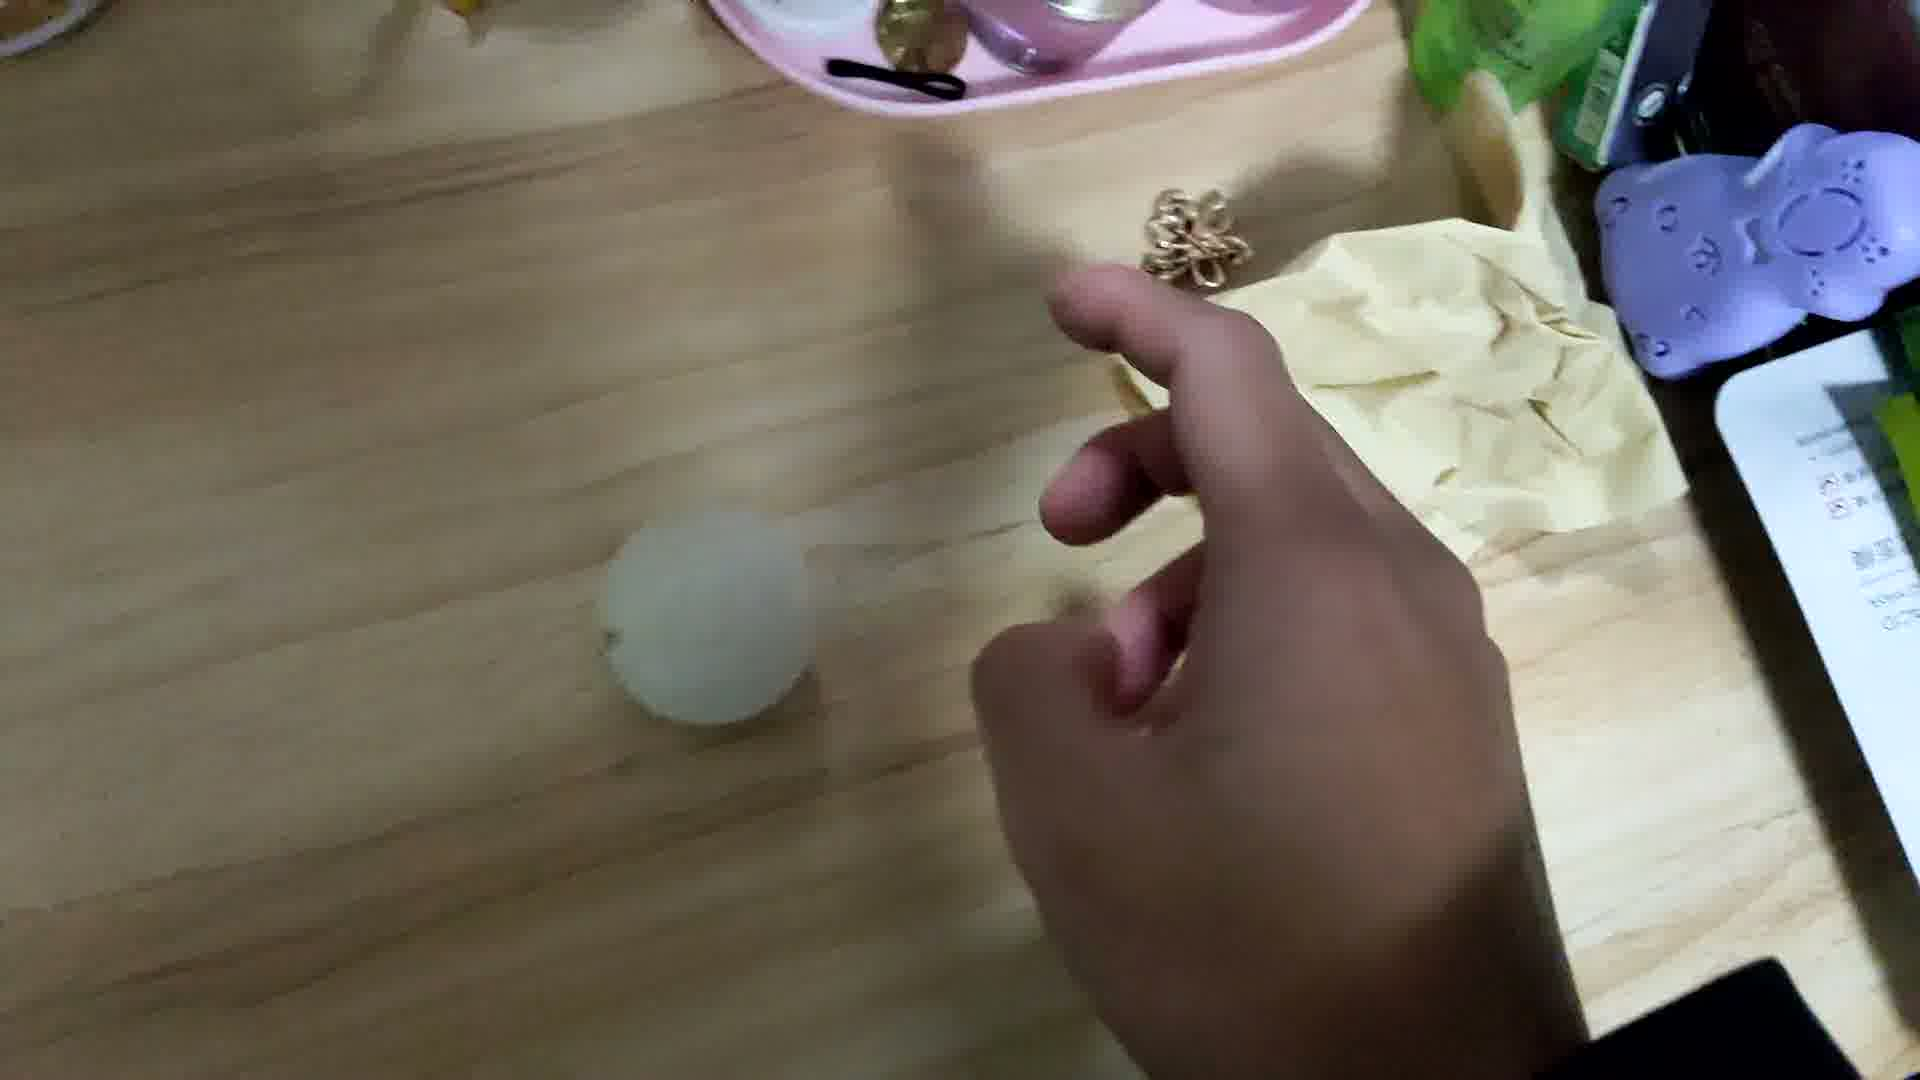Ball: (601, 506, 825, 737)
